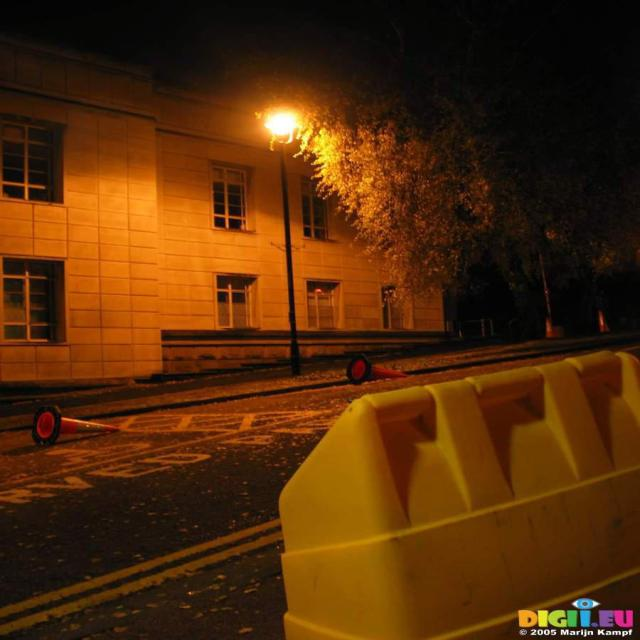other: (247, 96, 323, 168)
